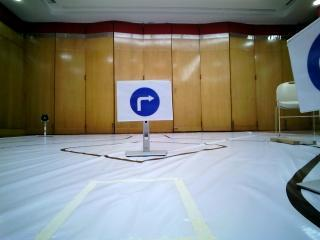right: (117, 81, 174, 122), (301, 17, 320, 115)
